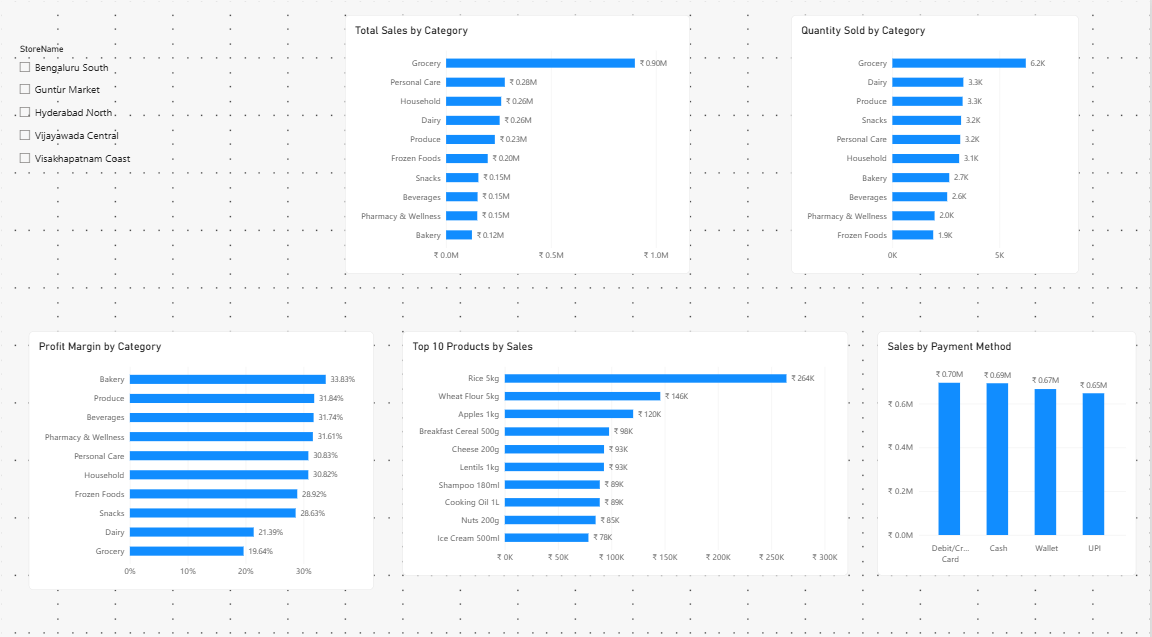

What the dashboard file says about the page in this screenshot:
{"tool":"powerbi","page":{"name":"Category Analysis","canvas":[1920,1080],"ordinal":1},"visuals":[{"type":"clusteredBarChart","fields":{"Category":["Products.Category"],"Y":["Customers.Total Sales"]},"box":[576,24,576,432],"z":0},{"type":"textbox","box":[432,24,744,144],"z":1000},{"type":"clusteredBarChart","title":"Quantity Sold by Category","fields":{"Category":["Products.Category"],"Y":["Customers.Total Quantity Sold"]},"box":[1320,24,480,432],"z":2000},{"type":"clusteredBarChart","title":"Profit Margin by Category","fields":{"Category":["Products.Category"],"Y":["Sales.Category Profit Margin %"]},"box":[48,552,576,432],"z":3000},{"type":"clusteredBarChart","title":"Top 10 Products by Sales","fields":{"Category":["Products.ProductName"],"Y":["Customers.Total Sales"]},"box":[672,552,744,408],"z":4000},{"type":"clusteredColumnChart","title":"Sales by Payment Method","fields":{"Category":["Sales.PaymentMethod"],"Y":["Customers.Total Sales"]},"box":[1464,552,432,408],"z":5000},{"type":"slicer","fields":{"Values":["Stores.StoreName"]},"box":[24,72,264,288],"z":6000}]}

Visuals, with their boxes in screenshot pixels (x1, y1, x2, y2), scaled from the page's 1920x1080 canvas onto the 1152x637 screenshot:
clusteredBarChart - Products.Category x Customers.Total Sales: (x1=346, y1=14, x2=691, y2=269)
textbox: (x1=259, y1=14, x2=706, y2=99)
"Quantity Sold by Category" clusteredBarChart: (x1=792, y1=14, x2=1080, y2=269)
"Profit Margin by Category" clusteredBarChart: (x1=29, y1=326, x2=374, y2=580)
"Top 10 Products by Sales" clusteredBarChart: (x1=403, y1=326, x2=850, y2=566)
"Sales by Payment Method" clusteredColumnChart: (x1=878, y1=326, x2=1138, y2=566)
slicer - Stores.StoreName: (x1=14, y1=42, x2=173, y2=212)
